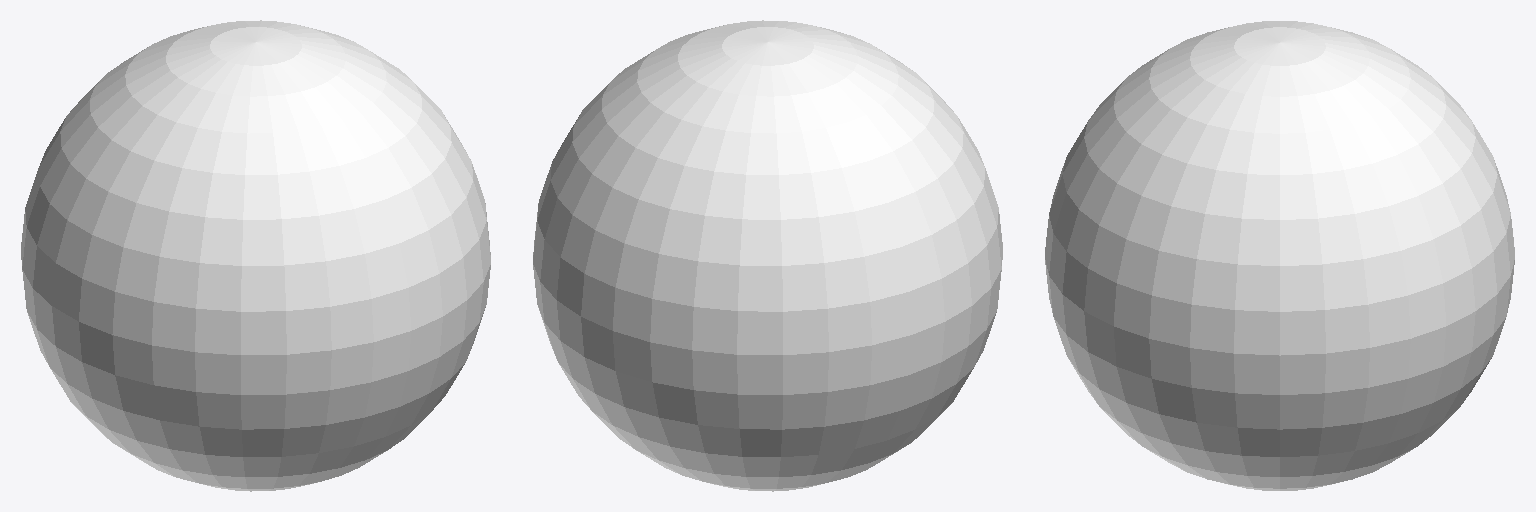
URDF robot description (optimo):
<?xml version="1.0" ?>
<!-- =================================================================================== -->
<!-- |    This document was autogenerated by xacro from optimo.urdf.xacro              | -->
<!-- |    EDITING THIS FILE BY HAND IS NOT RECOMMENDED                                 | -->
<!-- =================================================================================== -->
<robot name="optimo">
  <link name="optimo_base_link">
    </link>
  <joint name="optimo_base_joint" type="fixed">
    <parent link="optimo_base_link"/>
    <child link="optimo_link0"/>
    <origin rpy="0 0 0" xyz="0 0 0.27"/>
  </joint>
  <!-- Robot Links -->
  <link name="optimo_link0">
    <visual>
      <geometry>
        <mesh filename="file://[local-path]/workspaces/plato_ws/install/optimo_description/share/optimo_description/meshes/link0.stl"/>
      </geometry>
      <material name="LightGrey">
        <color rgba="0.999 0.999 0.999 1.0"/>
      </material>
    </visual>
    <collision>
      <geometry>
        <mesh filename="file://[local-path]/workspaces/plato_ws/install/optimo_description/share/optimo_description/meshes/col0.stl"/>
      </geometry>
    </collision>
    <inertial>
      <!-- Doesn't matter, just placeholder values -->
      <origin xyz="0 0 0"/>
      <mass value="1"/>
      <inertia ixx="0" ixy="0.0" ixz="0.0" iyy="0" iyz="0.0" izz="0"/>
    </inertial>
  </link>
  <link name="optimo_link1">
    <visual>
      <geometry>
        <sphere radius="0.01"/>
      </geometry>
      <material name="LightGrey">
        <color rgba="0.999 0.999 0.999 1.0"/>
      </material>
    </visual>
  </link>
  <link name="optimo_link1_passive">
    <visual>
      <geometry>
        <mesh filename="file://[local-path]/workspaces/plato_ws/install/optimo_description/share/optimo_description/meshes/link1.stl"/>
      </geometry>
      <material name="LightGrey">
        <color rgba="0.999 0.999 0.999 1.0"/>
      </material>
    </visual>
    <collision>
      <geometry>
        <mesh filename="file://[local-path]/workspaces/plato_ws/install/optimo_description/share/optimo_description/meshes/col1.stl"/>
      </geometry>
    </collision>
    <inertial>
      <origin xyz="0 -0.01635 0.01549"/>
      <mass value="4.152"/>
      <inertia ixx="0.01" ixy="0.000017" ixz="-.00001" iyy="0.007494" iyz="0.0000213" izz="0.009939"/>
      <!-- <inertia ixx="0" ixy="0.0" ixz="0.0" iyy="0" iyz="0.0" izz="0"/> -->
    </inertial>
  </link>
  <link name="optimo_link2"/>
  <link name="optimo_link2_passive">
    <visual>
      <geometry>
        <mesh filename="file://[local-path]/workspaces/plato_ws/install/optimo_description/share/optimo_description/meshes/link2.stl"/>
      </geometry>
      <material name="LightGrey">
        <color rgba="0.999 0.999 0.999 1.0"/>
      </material>
    </visual>
    <collision>
      <geometry>
        <mesh filename="file://[local-path]/workspaces/plato_ws/install/optimo_description/share/optimo_description/meshes/col2.stl"/>
      </geometry>
    </collision>
    <inertial>
      <origin rpy="0 0 3.1415926518" xyz="0 -0.05063 0.05677"/>
      <mass value="1.72"/>
      <inertia ixx="0.005694" ixy="0" ixz="0" iyy="0.005902" iyz="-0.001353" izz="0.002415"/>
      <!-- <inertia ixx="0" ixy="0.0" ixz="0.0" iyy="0" iyz="0.0" izz="0"/> -->
    </inertial>
  </link>
  <link name="optimo_link3"/>
  <link name="optimo_link3_passive">
    <visual>
      <geometry>
        <mesh filename="file://[local-path]/workspaces/plato_ws/install/optimo_description/share/optimo_description/meshes/link3.stl"/>
      </geometry>
      <material name="LightGrey">
        <color rgba="0.999 0.999 0.999 1.0"/>
      </material>
    </visual>
    <collision>
      <geometry>
        <mesh filename="file://[local-path]/workspaces/plato_ws/install/optimo_description/share/optimo_description/meshes/col3.stl"/>
      </geometry>
    </collision>
    <inertial>
      <!-- Inertia values taken from yaml, but these seem like they cannot be accurate...-->
      <origin xyz="-0.000039 .098 0"/>
      <mass value="4.310"/>
      <inertia ixx="0.012989" ixy="-0.000015" ixz="-.000003" iyy="0.002584" iyz="0.000632" izz="0.01305"/>
      <!-- <inertia ixx="0" ixy="0.0" ixz="0.0" iyy="0" iyz="0.0" izz="0"/> -->
    </inertial>
  </link>
  <link name="optimo_link4"/>
  <link name="optimo_link4_passive">
    <origin rpy="0 0 0" xyz="0 0 0"/>
    <visual>
      <geometry>
        <mesh filename="file://[local-path]/workspaces/plato_ws/install/optimo_description/share/optimo_description/meshes/link4.stl"/>
      </geometry>
      <material name="LightGrey">
        <color rgba="0.999 0.999 0.999 1.0"/>
      </material>
    </visual>
    <collision>
      <geometry>
        <mesh filename="file://[local-path]/workspaces/plato_ws/install/optimo_description/share/optimo_description/meshes/col4.stl"/>
      </geometry>
    </collision>
    <inertial>
      <origin rpy="0 0 0" xyz="-.00001 0.048852 0.0688"/>
      <mass value="1.09"/>
      <inertia ixx="0.007" ixy="-3.989e-7" ixz="0.002" iyy="0.007" iyz="-1.061e-6" izz="0.002"/>
      <!-- <inertia ixx="0.007" ixy="3.989e-7" ixz="-0.002" iyy="0.007" iyz="-1.061e-6" izz="0.002"/> -->
      <!-- <inertia ixx="0" ixy="0.0" ixz="0.0" iyy="0" iyz="0.0" izz="0"/> -->
    </inertial>
  </link>
  <link name="optimo_link5"/>
  <link name="optimo_link5_passive">
    <visual>
      <geometry>
        <mesh filename="file://[local-path]/workspaces/plato_ws/install/optimo_description/share/optimo_description/meshes/link5.stl"/>
      </geometry>
      <material name="LightGrey">
        <color rgba="0.999 0.999 0.999 1.0"/>
      </material>
    </visual>
    <collision>
      <geometry>
        <mesh filename="file://[local-path]/workspaces/plato_ws/install/optimo_description/share/optimo_description/meshes/col5.stl"/>
      </geometry>
    </collision>
    <inertial>
      <origin xyz=".001262 0.085 0.008"/>
      <mass value="2.23"/>
      <inertia ixx="0.000932" ixy="0" ixz="0" iyy="0.000802" iyz="-0.000030" izz="0.000733"/>
      <!-- <inertia ixx="0" ixy="0.0" ixz="0.0" iyy="0" iyz="0.0" izz="0"/> -->
    </inertial>
  </link>
  <link name="optimo_link6"/>
  <link name="optimo_link6_passive">
    <visual>
      <geometry>
        <mesh filename="file://[local-path]/workspaces/plato_ws/install/optimo_description/share/optimo_description/meshes/link6.stl"/>
      </geometry>
      <material name="LightGrey">
        <color rgba="0.999 0.999 0.999 1.0"/>
      </material>
    </visual>
    <collision>
      <geometry>
        <mesh filename="file://[local-path]/workspaces/plato_ws/install/optimo_description/share/optimo_description/meshes/col6.stl"/>
      </geometry>
    </collision>
    <inertial>
      <origin xyz="0 -0.00007 0.010855"/>
      <mass value="1.138"/>
      <inertia ixx="0.000932" ixy="0" ixz="0" iyy="0.000802" iyz="-0.000030" izz="0.0007325"/>
      <!-- <inertia ixx="0" ixy="0.0" ixz="0.0" iyy="0" iyz="0.0" izz="0"/> -->
    </inertial>
  </link>
  <link name="optimo_link7"/>
  <link name="optimo_link7_passive">
    <visual>
      <geometry>
        <mesh filename="file://[local-path]/workspaces/plato_ws/install/optimo_description/share/optimo_description/meshes/link7.stl"/>
      </geometry>
      <material name="LightGrey">
        <color rgba="0.999 0.999 0.999 1.0"/>
      </material>
    </visual>
    <collision>
      <geometry>
        <mesh filename="file://[local-path]/workspaces/plato_ws/install/optimo_description/share/optimo_description/meshes/col7.stl"/>
      </geometry>
    </collision>
    <inertial>
      <origin xyz="0 0 0"/>
      <mass value="1"/>
      <inertia ixx="0.005541" ixy=".000045" ixz="0.000077" iyy="0.004779" iyz="0.000043" izz="0.001723"/>
      <!-- <inertia ixx="0" ixy="0.0" ixz="0.0" iyy="0" iyz="0.0" izz="0"/> -->
    </inertial>
  </link>
  <!-- Robot Joints -->
  <joint name="optimo_joint1" type="revolute">
    <origin rpy="0 0 0" xyz="0 0 0"/>
    <parent link="optimo_link0"/>
    <child link="optimo_link1"/>
    <axis xyz="0 0 1"/>
    <limit effort="79" lower="-2.86233997164" upper="2.91469984917" velocity="10"/>
  </joint>
  <joint name="optimo_joint1_passive" type="fixed">
    <origin rpy="1.5707963267948966 0 0" xyz="0 0 0"/>
    <parent link="optimo_link1"/>
    <child link="optimo_link1_passive"/>
  </joint>
  <joint name="optimo_joint2" type="revolute">
    <origin rpy="0 0 0" xyz="0 0 0"/>
    <parent link="optimo_link1_passive"/>
    <child link="optimo_link2"/>
    <axis xyz="0 0 1"/>
    <limit effort="95" lower="1.0471975506" upper="4.3633231275" velocity="10"/>
  </joint>
  <joint name="optimo_joint2_passive" type="fixed">
    <origin rpy="1.5707963267948966 0 0" xyz="0 0 0"/>
    <parent link="optimo_link2"/>
    <child link="optimo_link2_passive"/>
  </joint>
  <joint name="optimo_joint3" type="revolute">
    <origin rpy="0 0 0" xyz="0 0 0.4"/>
    <parent link="optimo_link2_passive"/>
    <child link="optimo_link3"/>
    <axis xyz="0 0 1"/>
    <limit effort="32" lower="-2.91469984917" upper="2.84488667913" velocity="10"/>
  </joint>
  <joint name="optimo_joint3_passive" type="fixed">
    <origin rpy="-1.5707963267948966 0 0" xyz="0 0 0"/>
    <parent link="optimo_link3"/>
    <child link="optimo_link3_passive"/>
  </joint>
  <joint name="optimo_joint4" type="revolute">
    <origin rpy="0 0 0" xyz="0 0 0"/>
    <parent link="optimo_link3_passive"/>
    <child link="optimo_link4"/>
    <axis xyz="0 0 1"/>
    <limit effort="40" lower="-2.53072741395" upper="2.53072741395" velocity="10"/>
  </joint>
  <joint name="optimo_joint4_passive" type="fixed">
    <origin rpy="1.5707963267948966 0 0" xyz="0 0 0"/>
    <parent link="optimo_link4"/>
    <child link="optimo_link4_passive"/>
  </joint>
  <joint name="optimo_joint5" type="revolute">
    <origin rpy="0 0 0" xyz="0 0 0.4"/>
    <parent link="optimo_link4_passive"/>
    <child link="optimo_link5"/>
    <axis xyz="0 0 1"/>
    <limit effort="15" lower="-2.9670597267" upper="2.9670597267" velocity="10"/>
  </joint>
  <joint name="optimo_joint5_passive" type="fixed">
    <origin rpy="-1.5707963267948966 0 0" xyz="0 0 0"/>
    <parent link="optimo_link5"/>
    <child link="optimo_link5_passive"/>
  </joint>
  <joint name="optimo_joint6" type="revolute">
    <origin rpy="0 0 0" xyz="0 0 0"/>
    <parent link="optimo_link5_passive"/>
    <child link="optimo_link6"/>
    <axis xyz="0 0 1"/>
    <limit effort="15" lower="-2.0943951012" upper="2.0943951012" velocity="10"/>
  </joint>
  <joint name="optimo_joint6_passive" type="fixed">
    <origin rpy="1.5707963267948966 0 0" xyz="0 0 0"/>
    <parent link="optimo_link6"/>
    <child link="optimo_link6_passive"/>
  </joint>
  <joint name="optimo_joint7" type="revolute">
    <origin rpy="0 0 0" xyz="0 0 0"/>
    <parent link="optimo_link6_passive"/>
    <child link="optimo_link7"/>
    <axis xyz="0 0 1"/>
    <limit effort="15" lower="-2.65290046152" upper="3.28121899188" velocity="10"/>
  </joint>
  <joint name="optimo_joint7_passive" type="fixed">
    <origin rpy="1.5707963267948966 0 0" xyz="0 0 0"/>
    <parent link="optimo_link7"/>
    <child link="optimo_link7_passive"/>
  </joint>
</robot>

--- What the picture shows (computed from the rendered views, not written in the file) ---
3 views of the same robot in one strip: view 1: azimuth 30°, elevation 25°; view 2: azimuth 150°, elevation 25°; view 3: azimuth 270°, elevation 25° (orthographic).
Robot: optimo — 16 links, 15 joints (7 revolute, 8 fixed); root link optimo_base_link; default pose: all joints at 0 but 1 set to mid-range because 0 is outside their limits (optimo_joint2 = 2.71).
Visible links, largest first — view 1: optimo_link1; view 2: optimo_link1; view 3: optimo_link1.
Boxes of the visible links, box(x1,y1,x2,y2) form: optimo_link1: box(21, 20, 490, 491); optimo_link1: box(533, 20, 1002, 491); optimo_link1: box(1045, 21, 1514, 490).
Bounding box of the posed robot: 0.02 × 0.02 × 0.02 m (x, y, z).
Geometry: only primitive shapes (box / cylinder / sphere) drawn; not drawn: 8 mesh visuals (reference in a form the renderer does not follow).